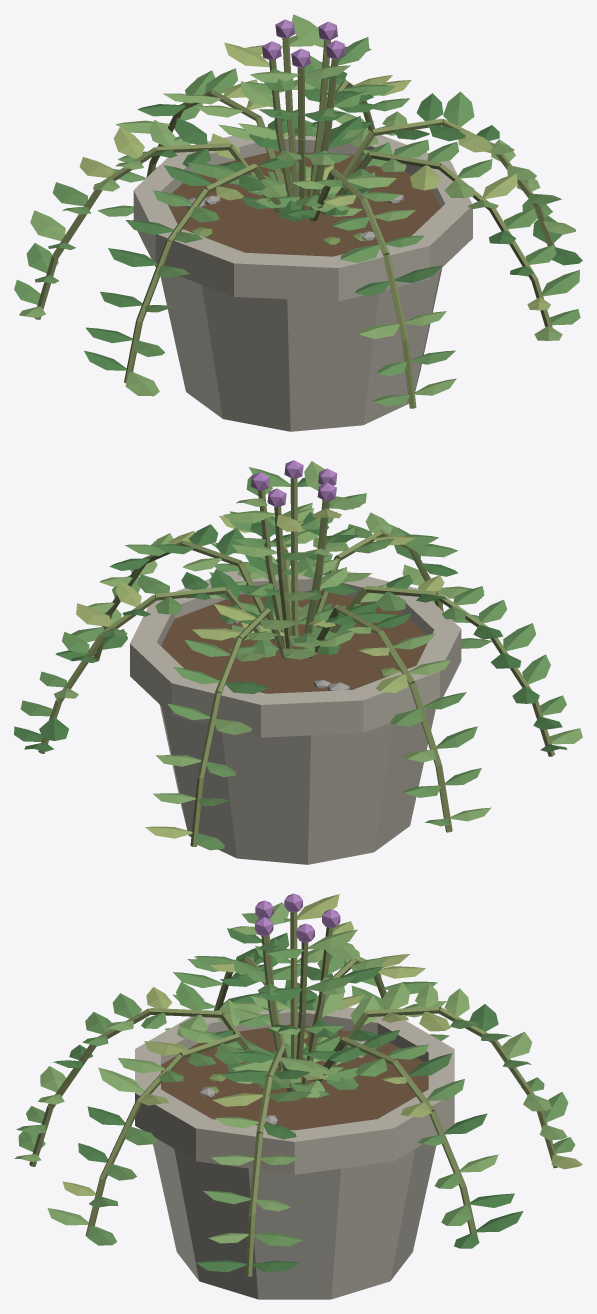
Rendered from brahmi.glb.
3 views of the same model, one above another, from view 1: azimuth 30°, elevation 25°; view 2: azimuth 150°, elevation 25°; view 3: azimuth 270°, elevation 25° (orthographic). The views are drawn at different scales.
Parts seen in each view (by area): view 1: plant, pot; view 2: pot, plant; view 3: plant, pot.
Part boxes in pixels (x1,y1,x2,y2): plant: (14, 14, 582, 408); pot: (133, 132, 472, 431); pot: (130, 569, 461, 864); plant: (14, 460, 582, 850); plant: (14, 893, 582, 1276); pot: (135, 1007, 454, 1299).
Bounding box in the file's own units: 0.6199 × 0.417 × 0.6265.
